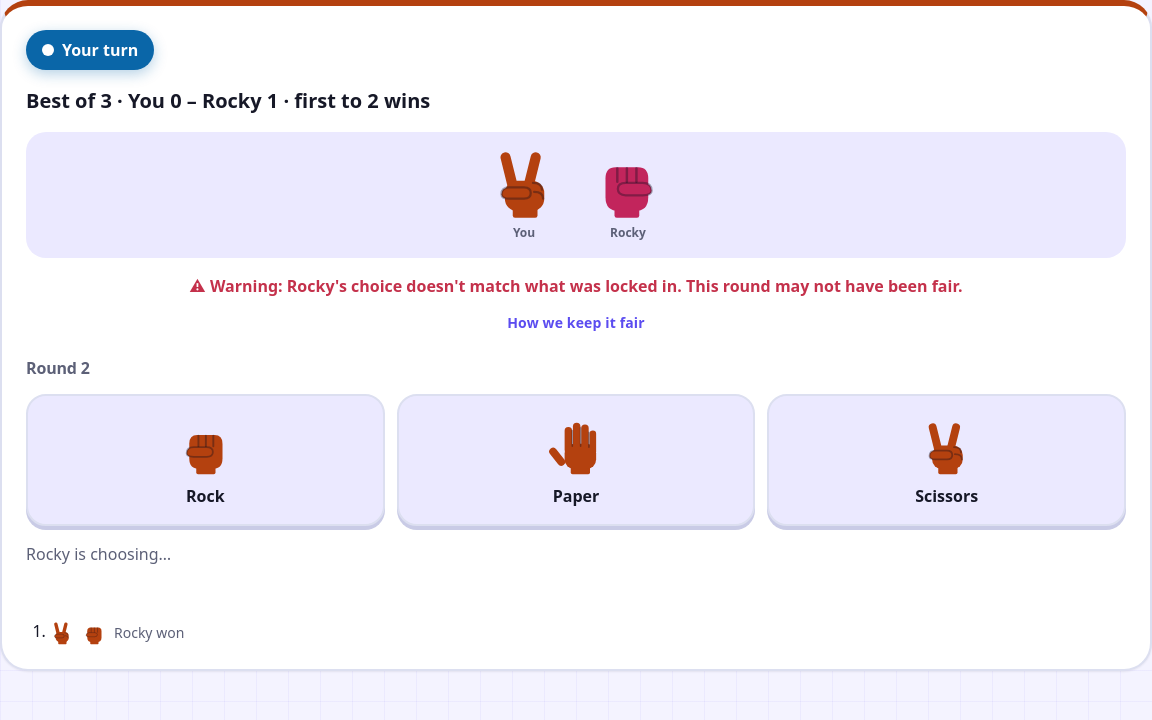
Test: RpsBoard against a computer character › prints the lock it remembered, not the one the reveal brings
The width and height of the screenshot is (1152, 720).
Click the button "How we keep it fair".
click(576, 322)  # box [489, 302, 663, 343]
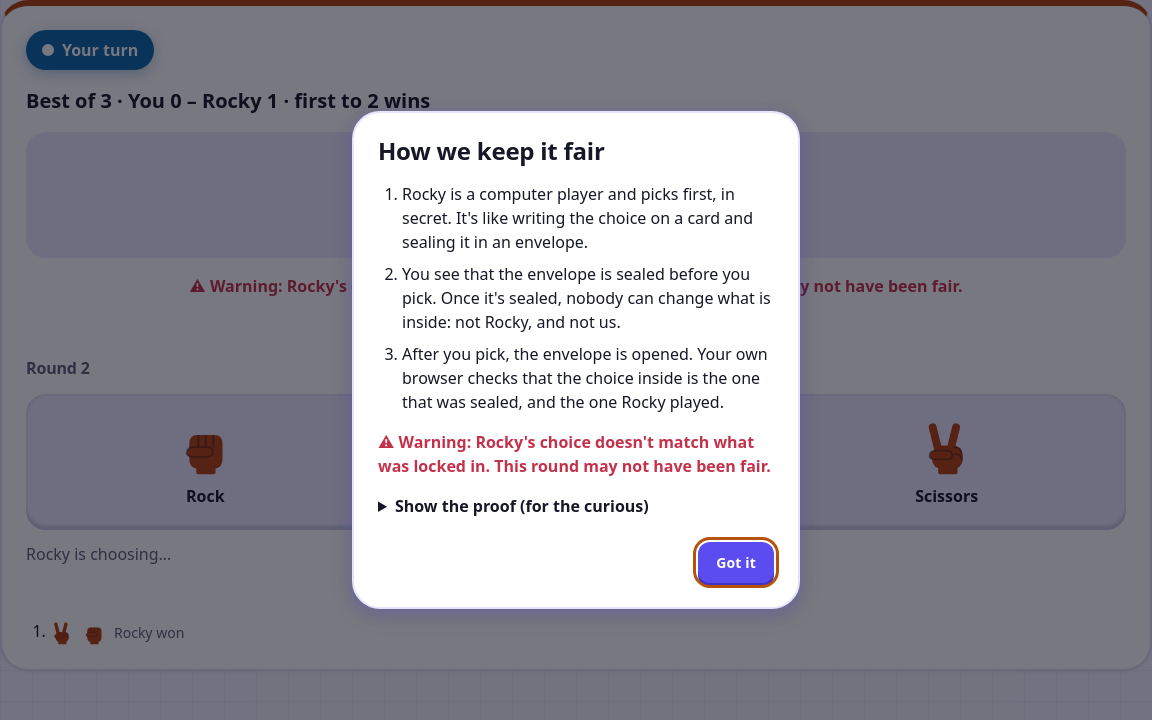
Expected: the text "Warning: Rocky's choice doesn't match what was locked in. This round may not have been fair." is shown, [378, 431, 771, 477]
